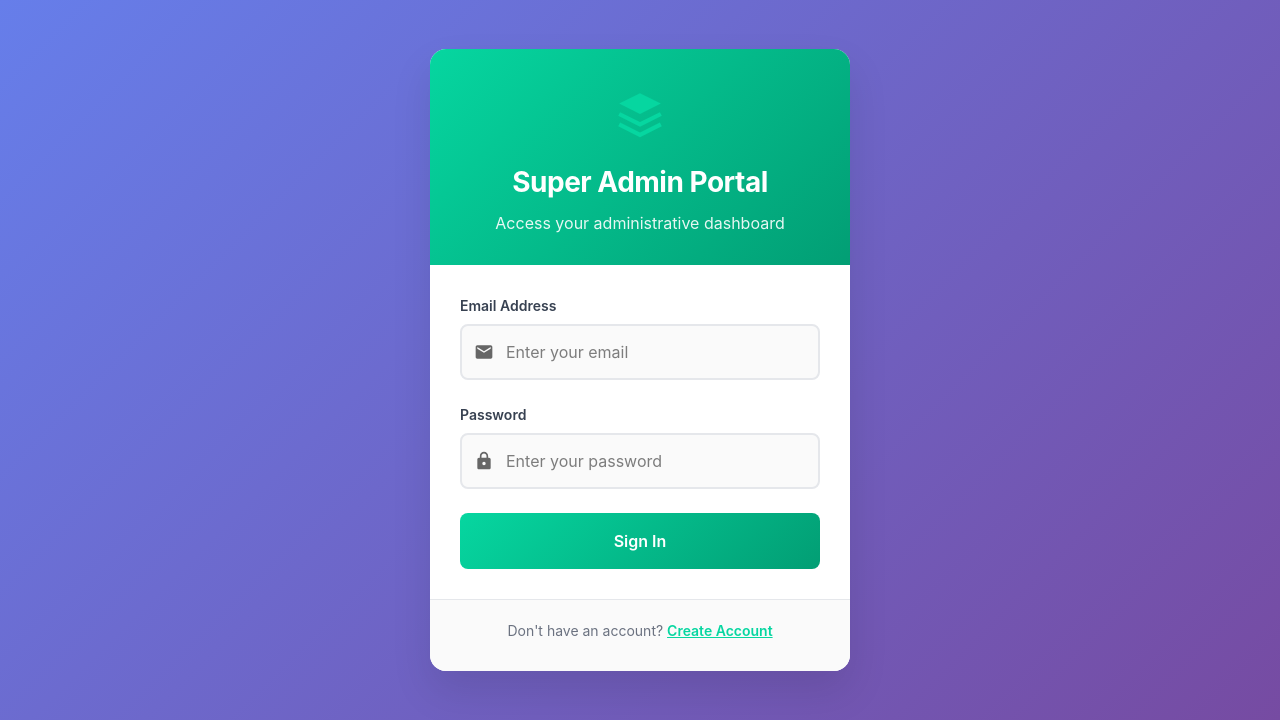
Test: SuperAdminLogin › should handle successful login
In the field with placeholder "Enter your email": (640, 352) left=460, top=324, right=820, bottom=380, type "admin@test.com"
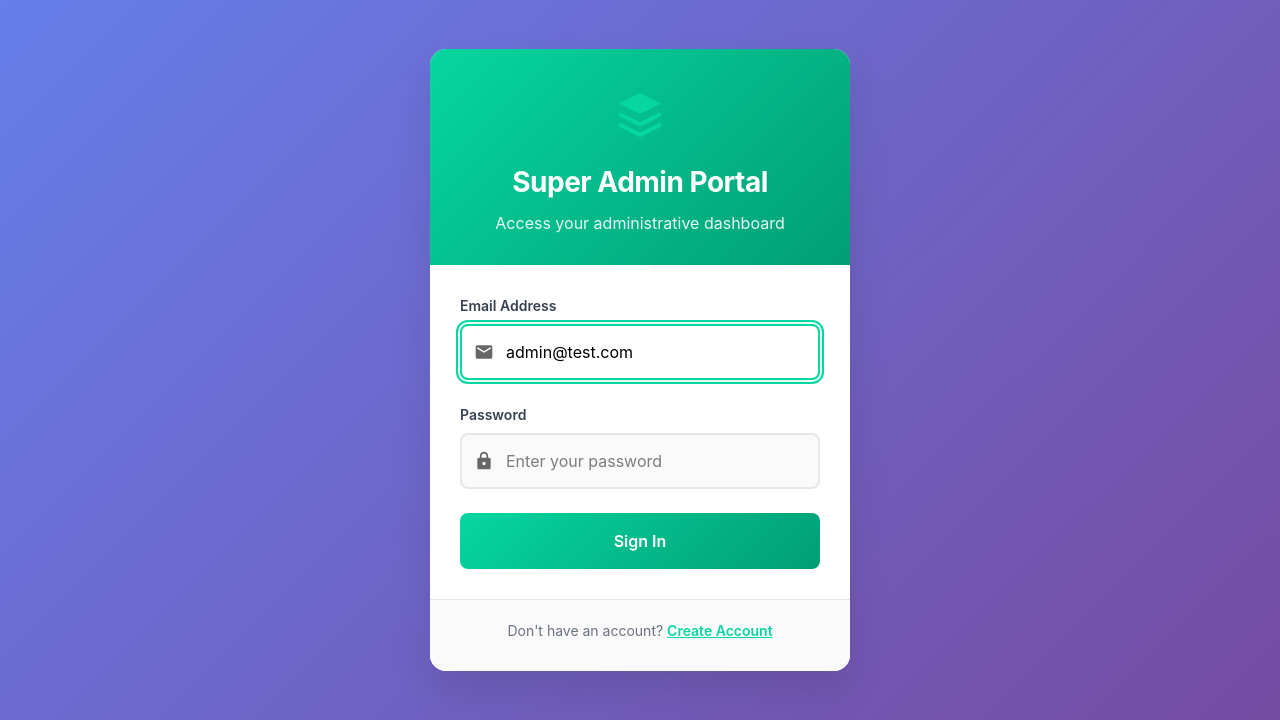
In the password field with placeholder "Enter your password": (640, 461) left=460, top=433, right=820, bottom=489, type "password123"
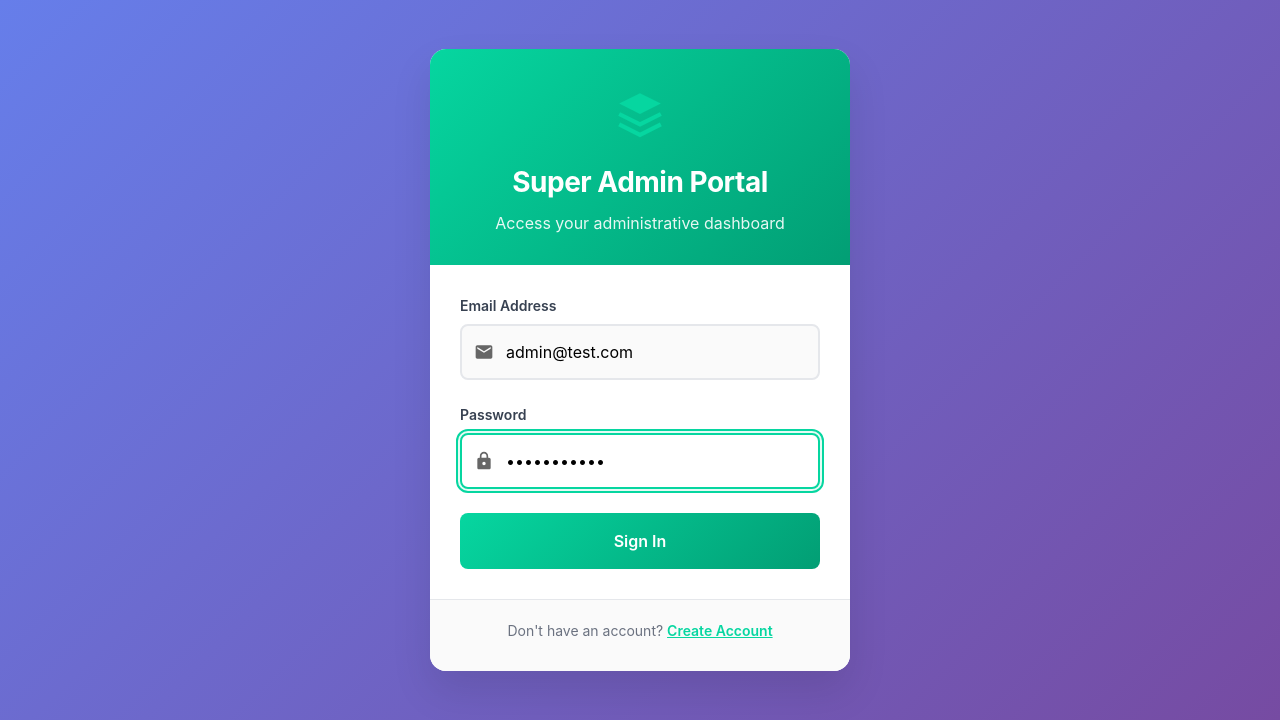
Click the button "Sign In": (640, 541) left=460, top=513, right=820, bottom=569
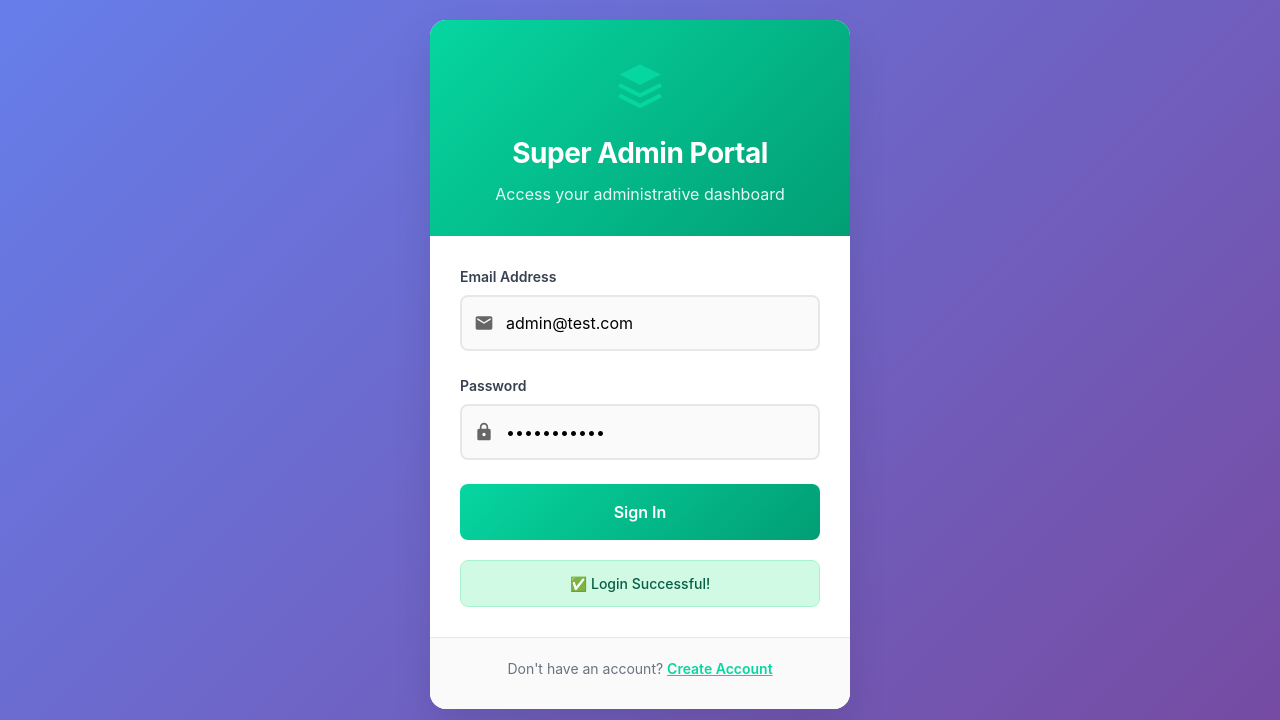
Expected: the text "✅ Login Successful!" is shown, left=460, top=560, right=820, bottom=607
